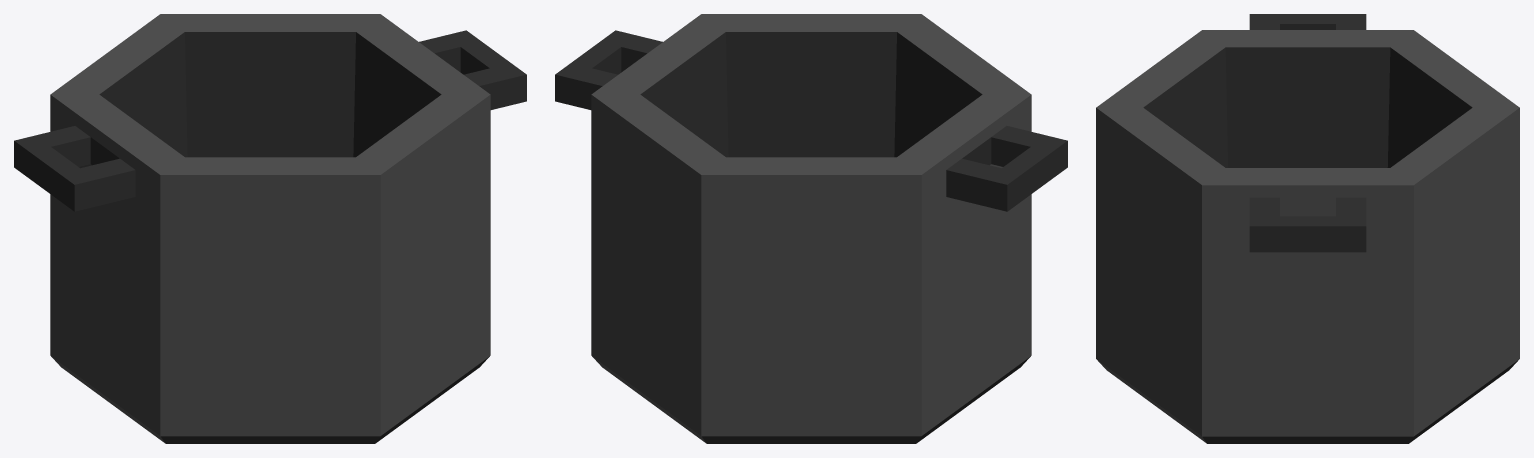
The model's file is Pot.fbx.
3 views of the same model, side by side, from view 1: azimuth 30°, elevation 25°; view 2: azimuth 150°, elevation 25°; view 3: azimuth 270°, elevation 25° (orthographic). The views are drawn at different scales.
Parts seen in each view (by area): view 1: Pot; view 2: Pot; view 3: Pot.
Boxes of the visible parts, x1,y1,x2,y2 form: Pot: (14,14,526,443); Pot: (555,14,1067,443); Pot: (1096,14,1519,443).
Bounding box in the file's own units: 0.5735 × 0.3306 × 0.4834.
